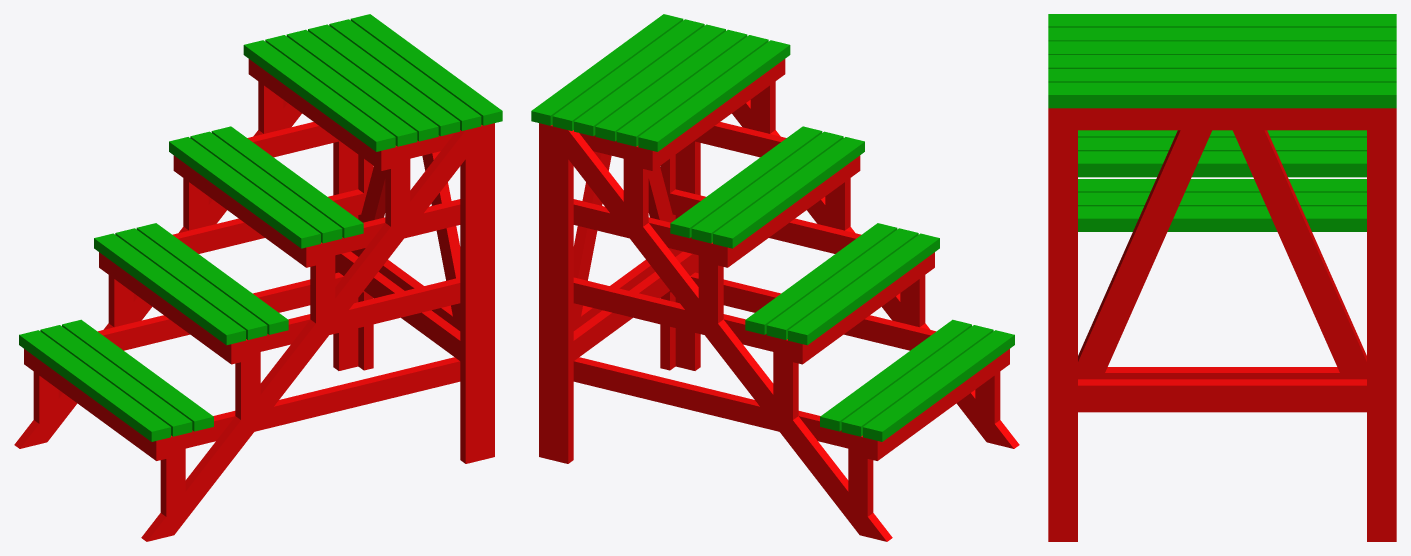
Rendered from result.glb.
3 views of the same model, side by side, from view 1: azimuth 30°, elevation 25°; view 2: azimuth 150°, elevation 25°; view 3: azimuth 270°, elevation 25° (orthographic). The views are drawn at different scales.
Parts seen in each view (by area): view 1: d651f58b-c64d-40c1-83b8-d6bf0a7f4297__undefined, 762b4dbb-cbf5-46c7-aaa7-fe8c32668e80__undefined, c6a6eead-32bf-4918-972c-fcce94bdf98a__undefined, 04bf39db-499a-4938-b9fc-91bea8bbd081__undefined, c60423be-6bd1-40ea-a02f-0a8e380d5bcf__undefined, 0a89df14-4356-4d15-b5db-205f69813b7f__undefined, 6eacc689-3f30-4fea-9eb9-c2b31d12e6df__undefined, 40b2e2f8-5fe4-4aac-8aee-682f42e95c77__undefined, cebe5bbd-61eb-4d89-a2c5-c7f7bde1303f__undefined, 9fcec2e8-e6f0-468a-b4d1-a4c95005fa23__undefined, ad17b9c6-919e-4be3-bd42-14531c3ad5d1__undefined, ae6fc5d5-277b-4355-bab7-a68c5f11c31e__undefined (+32 smaller); view 2: 9fcec2e8-e6f0-468a-b4d1-a4c95005fa23__undefined, 30f88e5d-0b5d-4a3b-a1f6-2bbbb1bc9bed__undefined, 8a185dc6-6b8b-480b-ac09-4b013995ebd3__undefined, 04bf39db-499a-4938-b9fc-91bea8bbd081__undefined, 0a89df14-4356-4d15-b5db-205f69813b7f__undefined, c60423be-6bd1-40ea-a02f-0a8e380d5bcf__undefined, 6eacc689-3f30-4fea-9eb9-c2b31d12e6df__undefined, 635852a7-126c-4c19-be2d-ae5646c94769__undefined, 09089b3a-b65d-42e1-8df1-02d9863b3754__undefined, d651f58b-c64d-40c1-83b8-d6bf0a7f4297__undefined, ad17b9c6-919e-4be3-bd42-14531c3ad5d1__undefined, ae6fc5d5-277b-4355-bab7-a68c5f11c31e__undefined (+33 smaller); view 3: cebe5bbd-61eb-4d89-a2c5-c7f7bde1303f__undefined, 09089b3a-b65d-42e1-8df1-02d9863b3754__undefined, ff086b7b-5432-426e-adab-44698a7cc7d6__undefined, b6f7f44b-d4c5-44d8-8dd4-b64259d47e11__undefined, 04e4a423-5c19-46cf-b385-4e90b5734e8d__undefined (×2), 7b7e825e-b289-4cc2-8331-f9d919d9963a__undefined, a8ab4a74-038a-45fd-a995-b6931c234b19__undefined, f89885dc-3af5-4680-a168-21a220ecad4a__undefined, 23fae3e0-a158-41cd-aed7-e88eb877fc18__undefined, ad17b9c6-919e-4be3-bd42-14531c3ad5d1__undefined, 04bf39db-499a-4938-b9fc-91bea8bbd081__undefined, d8b8485c-f3b1-4038-b150-ecaf83f67b53__undefined (+7 smaller).
Part boxes in pixels (x1,y1,x2,y2): d651f58b-c64d-40c1-83b8-d6bf0a7f4297__undefined: [141, 130, 465, 541]; 762b4dbb-cbf5-46c7-aaa7-fe8c32668e80__undefined: [460, 125, 485, 463]; c6a6eead-32bf-4918-972c-fcce94bdf98a__undefined: [185, 357, 460, 448]; 04bf39db-499a-4938-b9fc-91bea8bbd081__undefined: [243, 40, 395, 151]; c60423be-6bd1-40ea-a02f-0a8e380d5bcf__undefined: [94, 233, 245, 345]; 0a89df14-4356-4d15-b5db-205f69813b7f__undefined: [19, 330, 170, 441]; 6eacc689-3f30-4fea-9eb9-c2b31d12e6df__undefined: [169, 137, 320, 248]; 40b2e2f8-5fe4-4aac-8aee-682f42e95c77__undefined: [260, 277, 460, 351]; cebe5bbd-61eb-4d89-a2c5-c7f7bde1303f__undefined: [485, 143, 494, 459]; 9fcec2e8-e6f0-468a-b4d1-a4c95005fa23__undefined: [14, 100, 301, 448]; ad17b9c6-919e-4be3-bd42-14531c3ad5d1__undefined: [265, 35, 417, 146]; ae6fc5d5-277b-4355-bab7-a68c5f11c31e__undefined: [190, 131, 342, 243]; 9fcec2e8-e6f0-468a-b4d1-a4c95005fa23__undefined: [568, 130, 892, 541]; 30f88e5d-0b5d-4a3b-a1f6-2bbbb1bc9bed__undefined: [548, 125, 573, 463]; 8a185dc6-6b8b-480b-ac09-4b013995ebd3__undefined: [573, 357, 848, 448]; 04bf39db-499a-4938-b9fc-91bea8bbd081__undefined: [638, 40, 790, 151]; 0a89df14-4356-4d15-b5db-205f69813b7f__undefined: [863, 330, 1014, 441]; c60423be-6bd1-40ea-a02f-0a8e380d5bcf__undefined: [788, 233, 939, 345]; 6eacc689-3f30-4fea-9eb9-c2b31d12e6df__undefined: [713, 137, 864, 248]; 635852a7-126c-4c19-be2d-ae5646c94769__undefined: [573, 277, 773, 351]; 09089b3a-b65d-42e1-8df1-02d9863b3754__undefined: [539, 143, 548, 459]; d651f58b-c64d-40c1-83b8-d6bf0a7f4297__undefined: [732, 100, 1019, 448]; ad17b9c6-919e-4be3-bd42-14531c3ad5d1__undefined: [616, 35, 768, 146]; ae6fc5d5-277b-4355-bab7-a68c5f11c31e__undefined: [691, 131, 843, 243]; cebe5bbd-61eb-4d89-a2c5-c7f7bde1303f__undefined: [1048, 130, 1077, 541]; 09089b3a-b65d-42e1-8df1-02d9863b3754__undefined: [1367, 130, 1396, 541]; ff086b7b-5432-426e-adab-44698a7cc7d6__undefined: [1078, 379, 1366, 412]; b6f7f44b-d4c5-44d8-8dd4-b64259d47e11__undefined: [1048, 82, 1396, 108]; 04e4a423-5c19-46cf-b385-4e90b5734e8d__undefined (×2): [1078, 130, 1212, 379]; 7b7e825e-b289-4cc2-8331-f9d919d9963a__undefined: [1232, 130, 1366, 379]; a8ab4a74-038a-45fd-a995-b6931c234b19__undefined: [1048, 108, 1396, 130]; f89885dc-3af5-4680-a168-21a220ecad4a__undefined: [1078, 151, 1366, 177]; 23fae3e0-a158-41cd-aed7-e88eb877fc18__undefined: [1078, 206, 1366, 231]; ad17b9c6-919e-4be3-bd42-14531c3ad5d1__undefined: [1048, 27, 1396, 41]; 04bf39db-499a-4938-b9fc-91bea8bbd081__undefined: [1048, 14, 1396, 27]; d8b8485c-f3b1-4038-b150-ecaf83f67b53__undefined: [1048, 41, 1396, 54].
Bounding box in the file's own units: 915 × 845 × 590.
